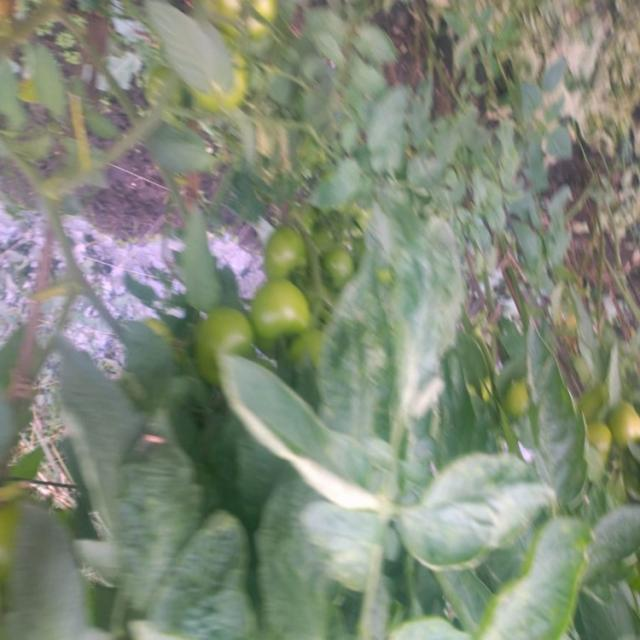tomato: (249, 264, 323, 349), (192, 300, 268, 365), (496, 367, 556, 448), (259, 210, 317, 292), (192, 1, 292, 46), (605, 392, 637, 457), (581, 417, 618, 462)
